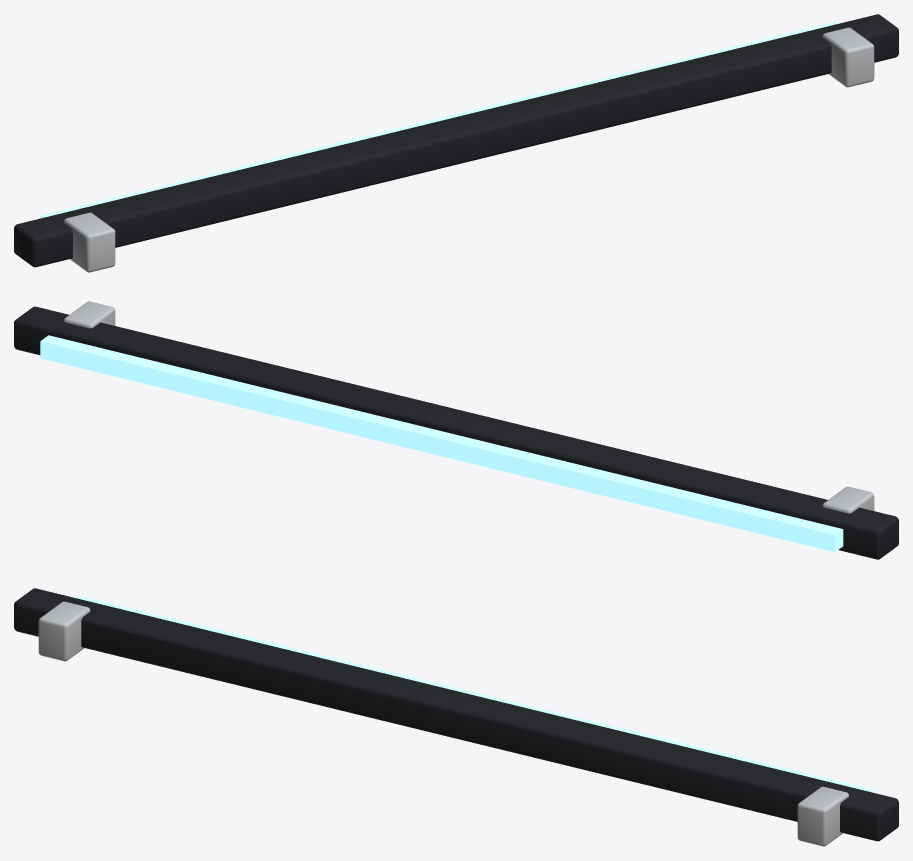
Rendered from service_light_bar.glb.
3 renders of one model, top to bottom at view 1: azimuth 30°, elevation 25°; view 2: azimuth 150°, elevation 25°; view 3: azimuth 330°, elevation 25°, orthographic.
Visible parts, largest first — view 1: BarHousing, BarLens, BarMount1, BarMount0; view 2: BarHousing, BarLens, BarMount0, BarMount1; view 3: BarHousing, BarLens, BarMount0, BarMount1.
Part boxes in pixels (left/top/right/bottom): BarHousing: left=14, top=14, right=898, bottom=267; BarLens: left=40, top=22, right=837, bottom=218; BarMount1: left=822, top=27, right=874, bottom=87; BarMount0: left=64, top=212, right=115, bottom=272; BarHousing: left=14, top=306, right=898, bottom=559; BarLens: left=40, top=335, right=843, bottom=551; BarMount0: left=822, top=486, right=874, bottom=513; BarMount1: left=64, top=301, right=115, bottom=328; BarHousing: left=14, top=588, right=898, bottom=841; BarLens: left=75, top=596, right=872, bottom=792; BarMount0: left=38, top=601, right=90, bottom=661; BarMount1: left=797, top=786, right=848, bottom=846.
Size of the model in its own units: 2.4 by 0.1 by 0.21.
